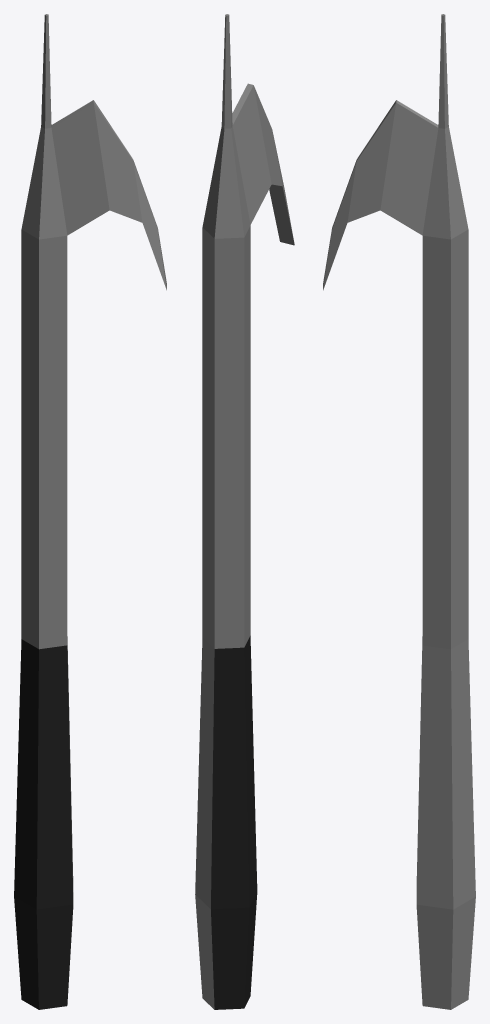
The model's file is firehookWeapon.fbx.
3 renders of one model, left to right at view 1: azimuth 90°, elevation 25°; view 2: azimuth 150°, elevation 25°; view 3: azimuth 270°, elevation 25°, orthographic.
Visible parts, largest first — view 1: FireHook; view 2: FireHook; view 3: FireHook.
Part boxes in pixels (x1,y1,x2,y2): FireHook: (14, 14, 166, 1009); FireHook: (195, 14, 294, 1009); FireHook: (323, 14, 475, 1009).
Size of the model in its own units: 4.59 by 79.77 by 11.23.
